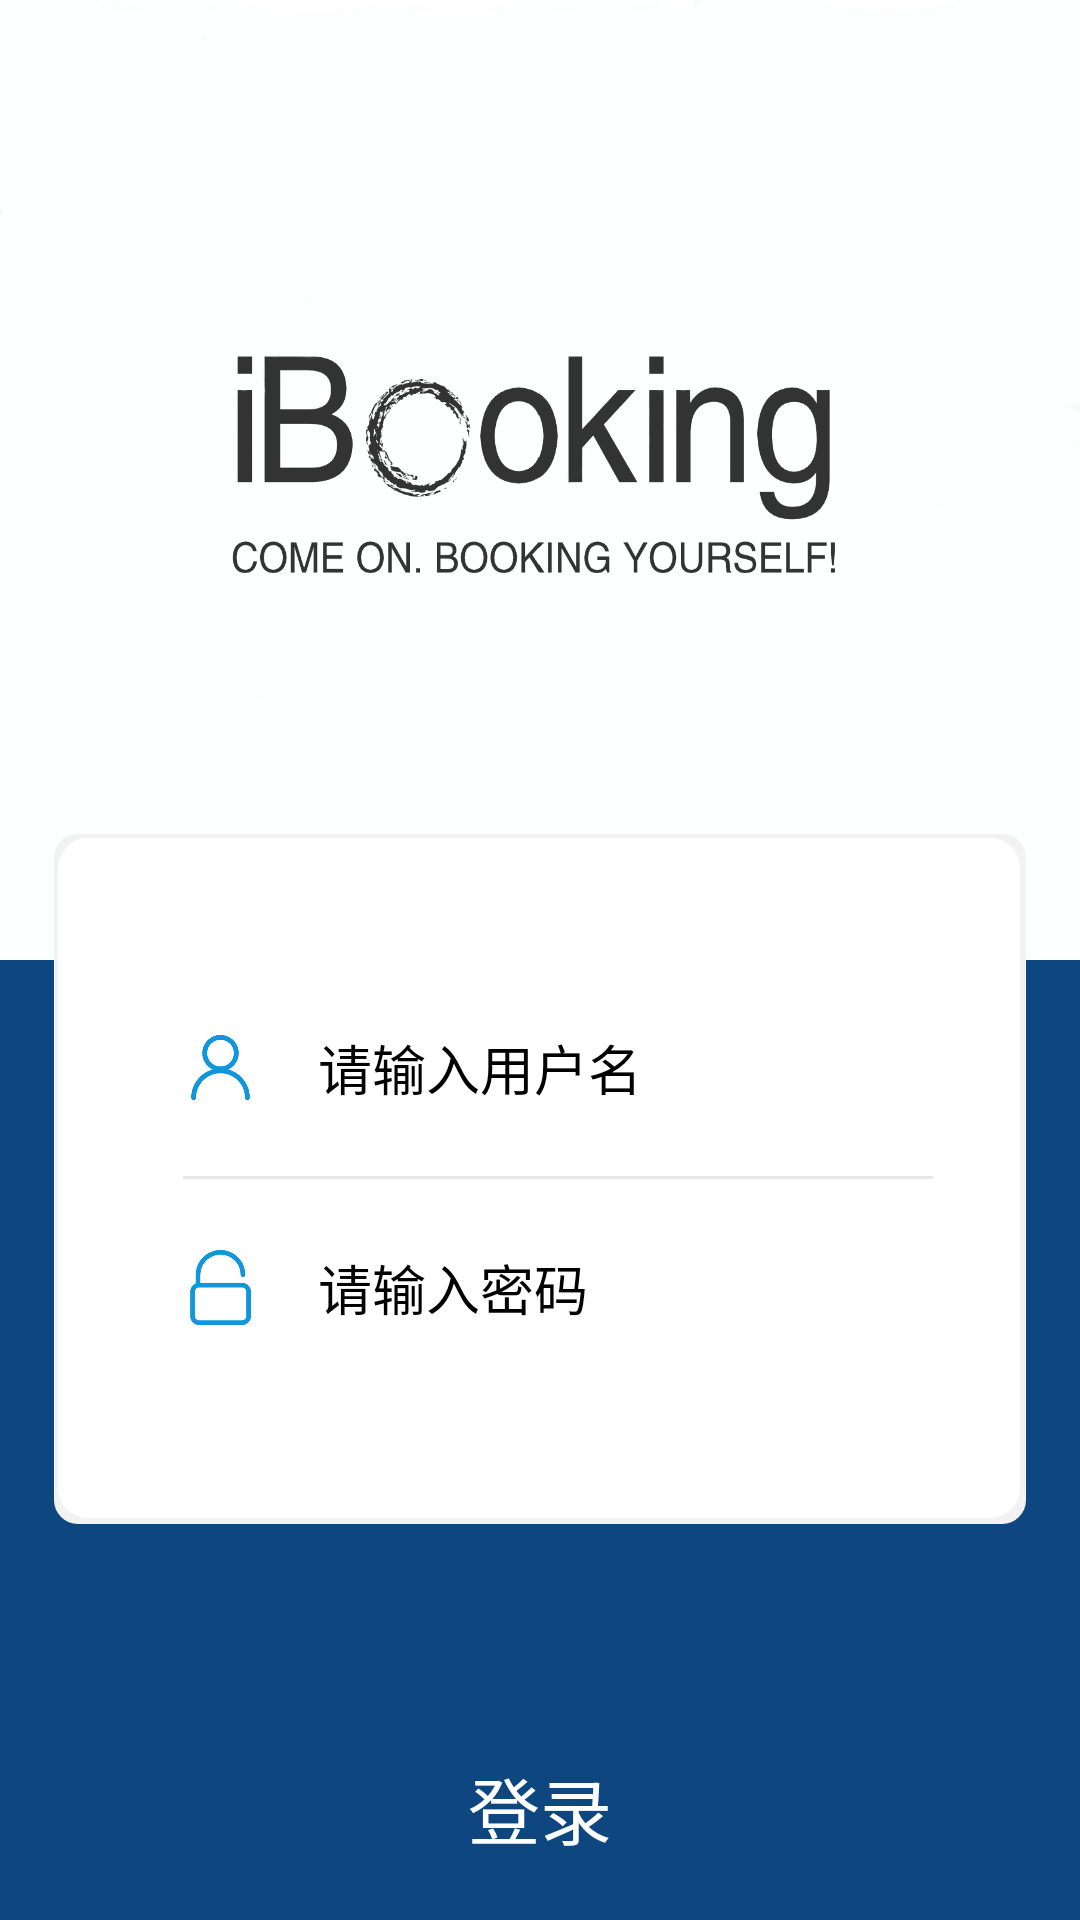

Locate icon controls on the screen. Image size 1080*1920, boxes as (x1=x1, y1=y1, x2=x2, y2=y2).
account: (x1=191, y1=1035, x2=250, y2=1100)
password: (x1=190, y1=1250, x2=251, y2=1325)
